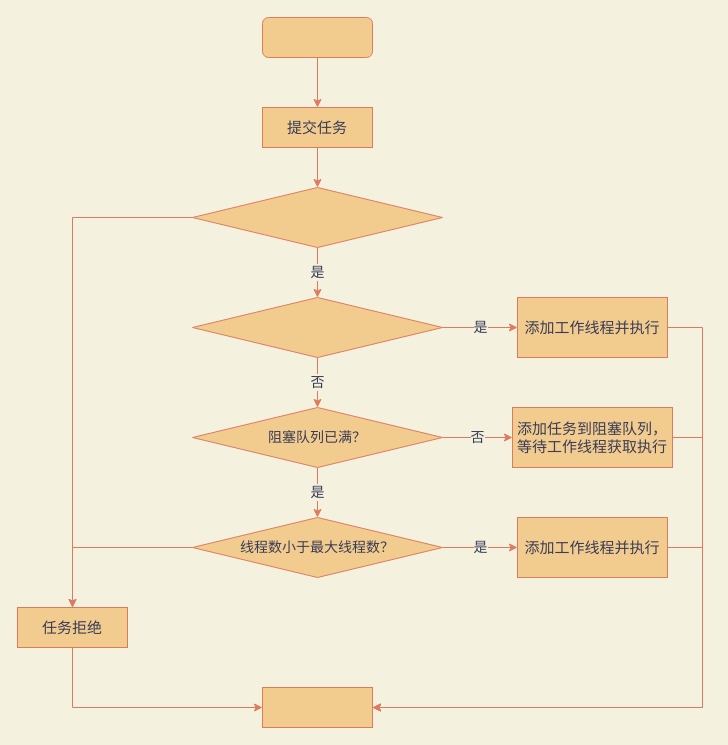
The diagram is 728 pixels wide and 745 high, and some of its shapes have lost their labels. The centre of each missing label's shape, as x and y in pixels:
开始: point 317,37
线程数小于核心数？: point 317,327
线程池是否还在运行: point 317,217
结束: point 317,707
